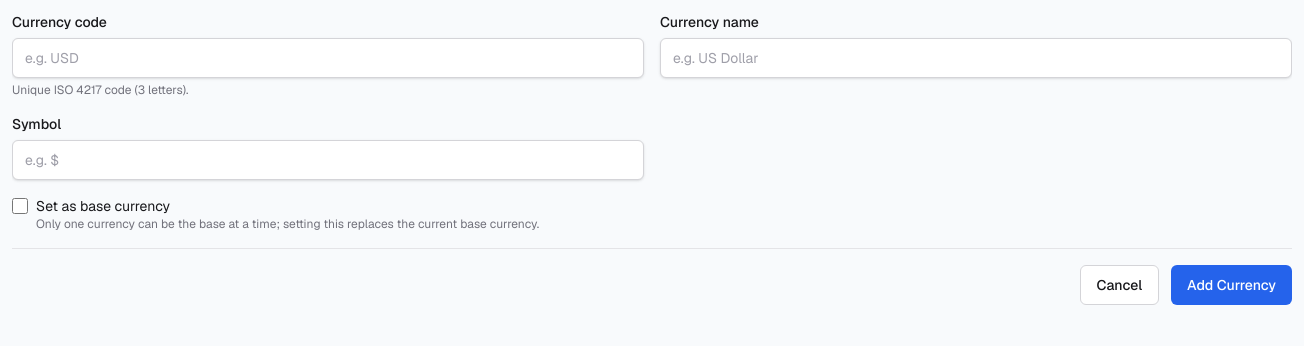
it: CurrencyForm › rejects a currency code that is not exactly 3 letters
Type "US" into the field labelled "Currency code" at (328, 58), box [12,38,644,78]
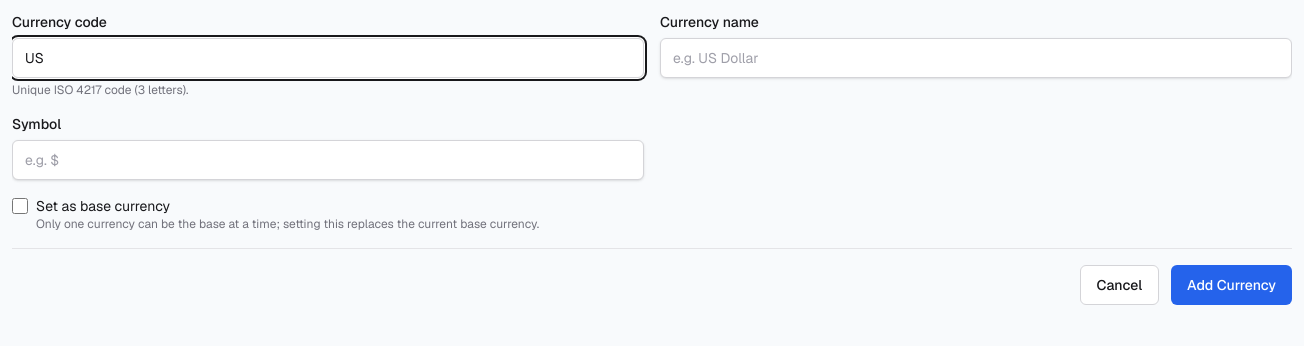
Type "US Dollar" into the field labelled "Currency name" at (976, 58), box [660,38,1292,78]
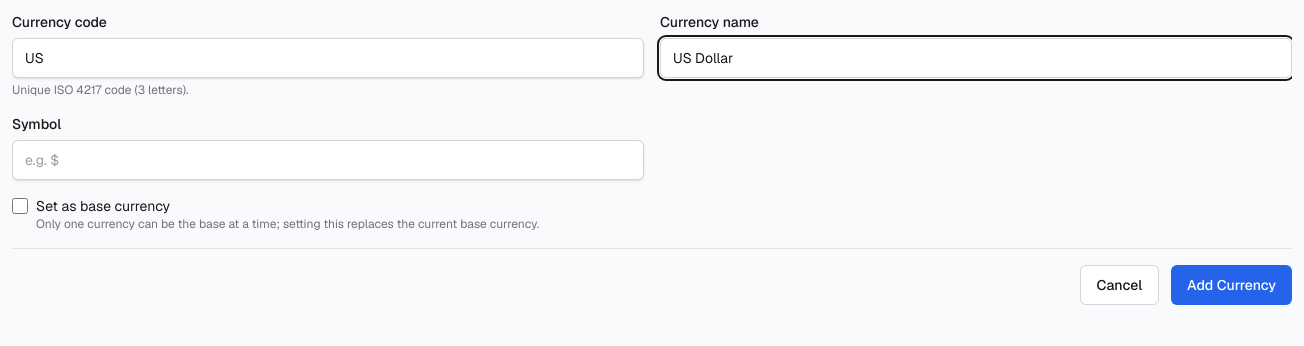
Type "$" into the field labelled "Symbol" at (328, 160), box [12,140,644,180]
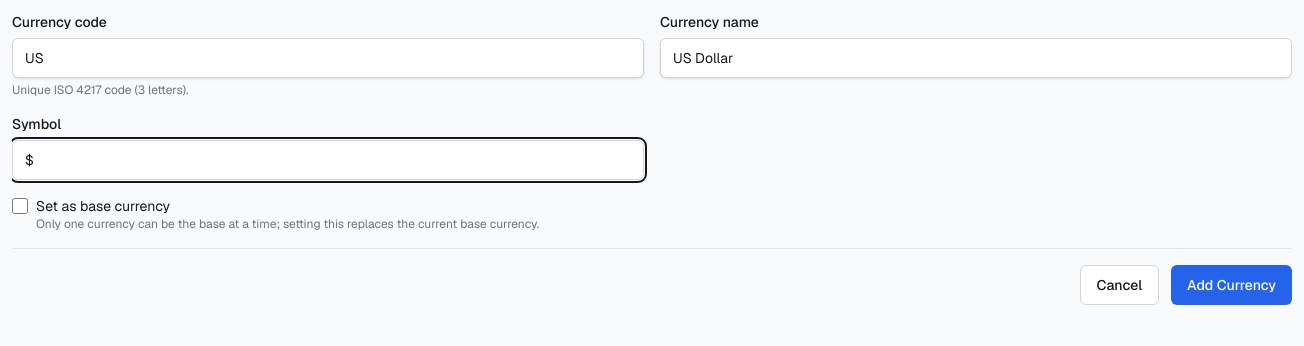
Click the button "Add Currency" at (1232, 285), box [1171,265,1292,305]
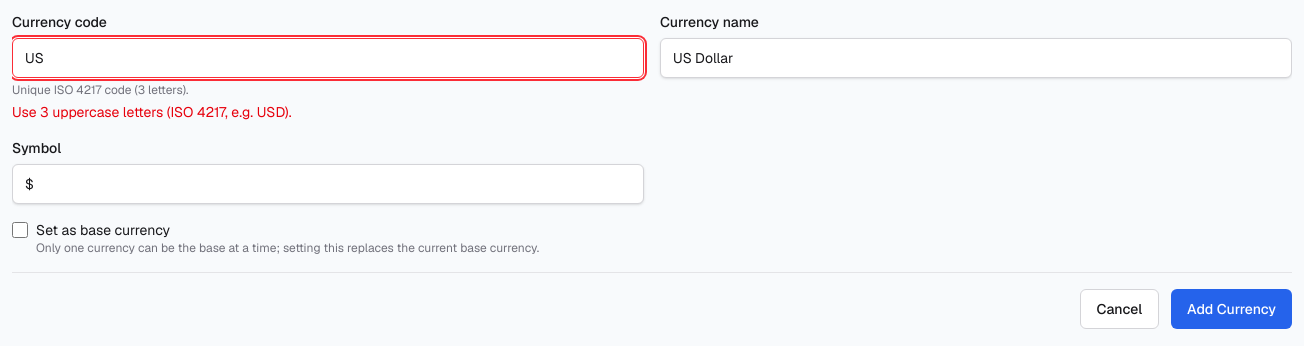
Result: the text "Use 3 uppercase letters (ISO 4217, e.g. USD)." is shown at [12,103,292,121]
